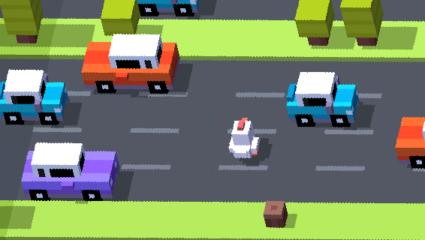hen: (228, 118, 262, 159)
obstacle: (81, 33, 176, 93), (25, 142, 120, 199), (288, 72, 360, 128), (0, 70, 38, 125), (295, 0, 328, 46), (342, 1, 375, 47), (0, 0, 37, 40), (398, 115, 425, 169), (100, 0, 140, 34), (42, 76, 68, 126), (135, 0, 202, 16), (265, 201, 290, 227)
